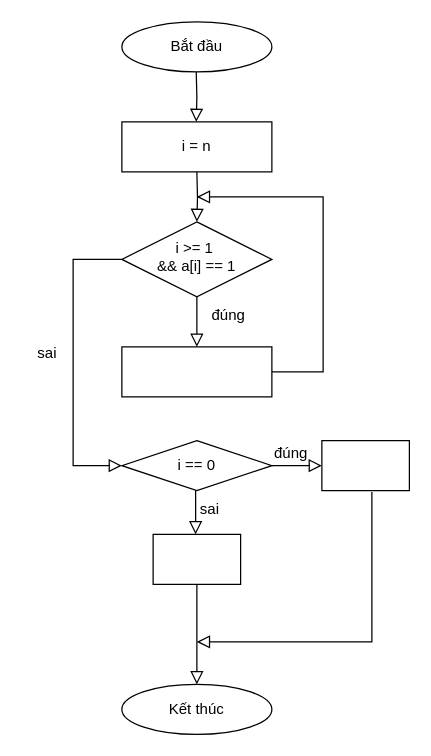
The diagram is 431 pixels wide and 756 high, and some of its shapes have lost their labels. The shapes that lost their labels are listed below. From the top down, each one's centre as x and y in pixels, then its label:
At (x=196, y=371): "a[i] = 0 i--".
At (x=365, y=465): "ok = 0".
At (x=196, y=558): "a[i] = 1".
